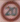20 km speed: (1, 1, 20, 21)
